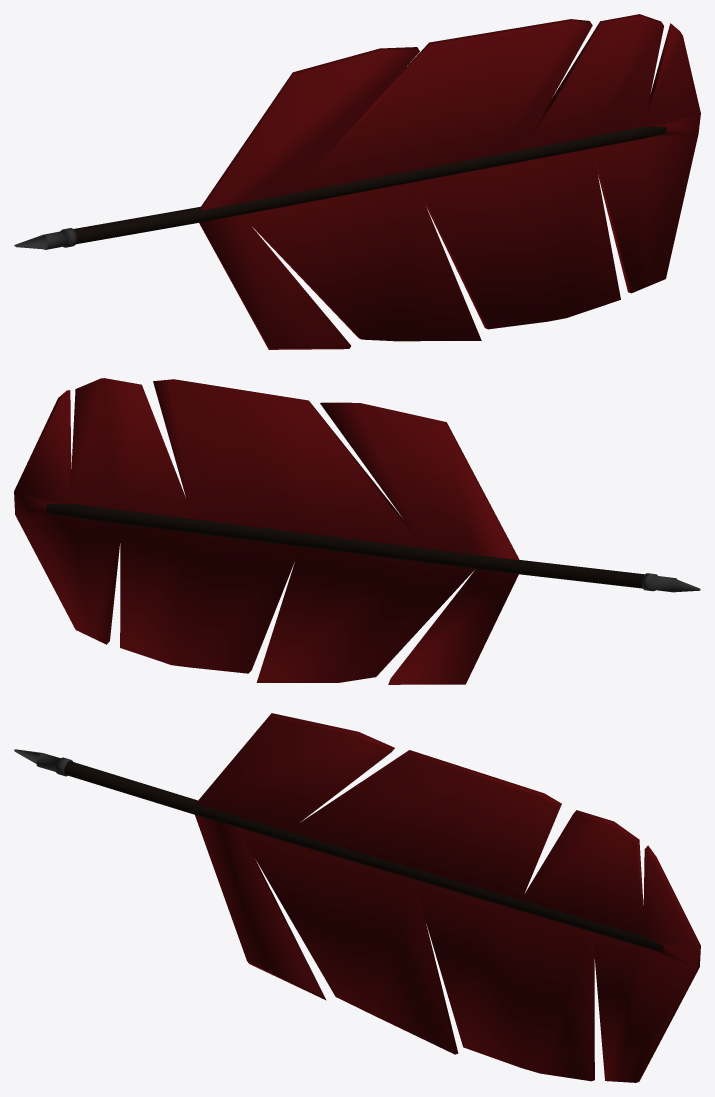
File: pluma.fbx
The picture shows the model from 3 angles, top to bottom: view 1: azimuth 30°, elevation 25°; view 2: azimuth 150°, elevation 25°; view 3: azimuth 330°, elevation 25°; orthographic projection. The views are drawn at different scales.
Parts seen in each view (by area): view 1: group_3, group_1, group_2; view 2: group_3, group_1, group_2; view 3: group_3, group_1, group_2.
Boxes of the visible parts, x1=… form: group_3: x1=199, y1=14, x2=700, y2=349; group_1: x1=73, y1=126, x2=666, y2=244; group_2: x1=14, y1=228, x2=76, y2=249; group_3: x1=14, y1=378, x2=519, y2=684; group_1: x1=46, y1=503, x2=644, y2=588; group_2: x1=641, y1=573, x2=700, y2=592; group_3: x1=195, y1=713, x2=700, y2=1082; group_1: x1=64, y1=761, x2=663, y2=951; group_2: x1=14, y1=749, x2=72, y2=776.
Size of the model in its own units: 13790 by 1018 by 5958.
